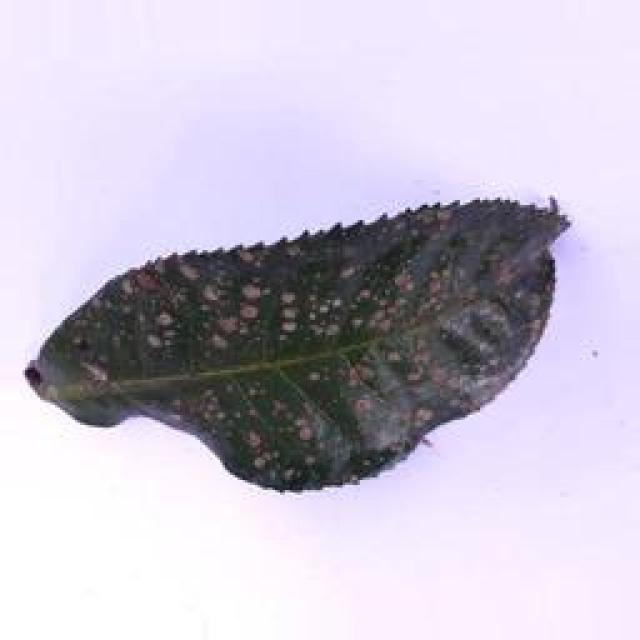Algal Leaf Spot: (0, 178, 580, 510)
